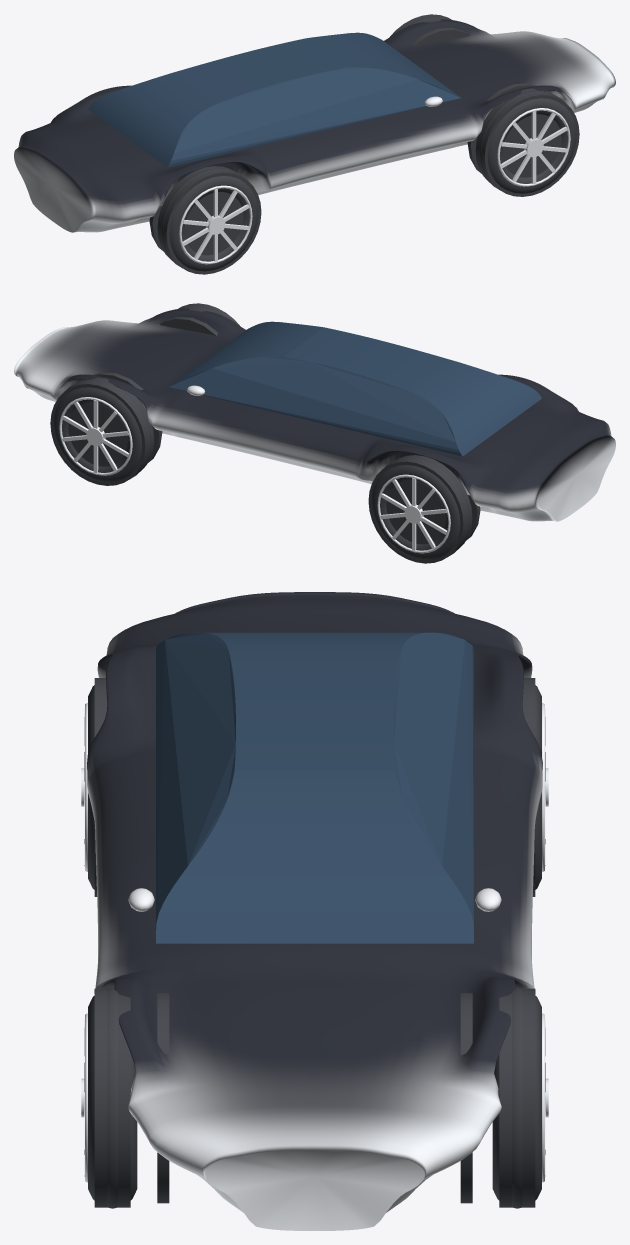
The model's file is car.glb.
3 views of the same model, one above another, from view 1: azimuth 30°, elevation 25°; view 2: azimuth 150°, elevation 25°; view 3: azimuth 270°, elevation 25° (orthographic). The views are drawn at different scales.
Parts seen in each view (by area): view 1: Body, Glass, Tires, Silver; view 2: Body, Glass, Tires, Silver; view 3: Body, Glass, Tires, Silver.
Boxes of the visible parts, bbox=[...] form: Body: bbox=[14, 19, 615, 232]; Glass: bbox=[88, 32, 460, 167]; Tires: bbox=[149, 14, 579, 274]; Silver: bbox=[179, 33, 570, 264]; Body: bbox=[14, 308, 615, 521]; Glass: bbox=[169, 321, 541, 456]; Tires: bbox=[50, 303, 480, 563]; Silver: bbox=[59, 322, 450, 553]; Body: bbox=[87, 592, 542, 1230]; Glass: bbox=[156, 632, 473, 943]; Tires: bbox=[88, 678, 541, 1208]; Silver: bbox=[81, 703, 548, 1182].
Bounding box in the file's own units: 5.14 × 1.29 × 1.94.
